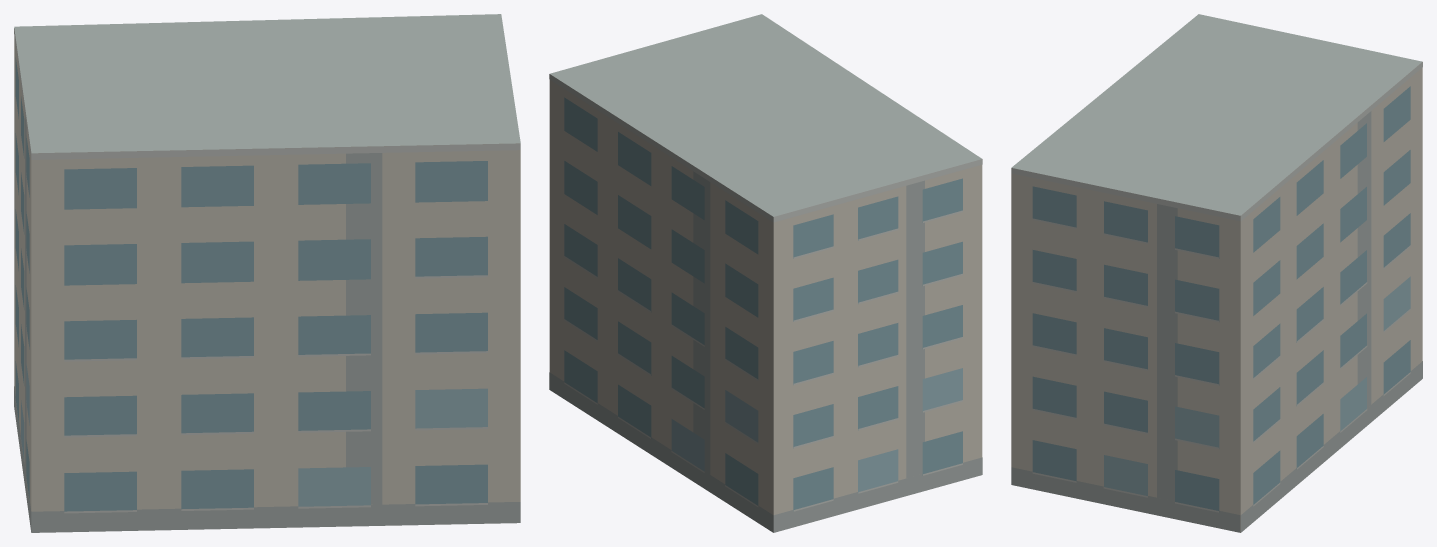
The model's file is survey-upis-32893083.glb.
The picture shows the model from 3 angles, left to right: view 1: azimuth 30°, elevation 25°; view 2: azimuth 150°, elevation 25°; view 3: azimuth 270°, elevation 25°; orthographic projection. The views are drawn at different scales.
Visible parts, largest first — view 1: survey-upis-32893083.tmp; view 2: survey-upis-32893083.tmp; view 3: survey-upis-32893083.tmp.
Part boxes in pixels (x1=…): survey-upis-32893083.tmp: x1=14, y1=14, x2=520, y2=532; survey-upis-32893083.tmp: x1=549, y1=14, x2=982, y2=532; survey-upis-32893083.tmp: x1=1011, y1=14, x2=1422, y2=532.
Bounding box in the file's own units: 18.78 × 13.75 × 16.18.
